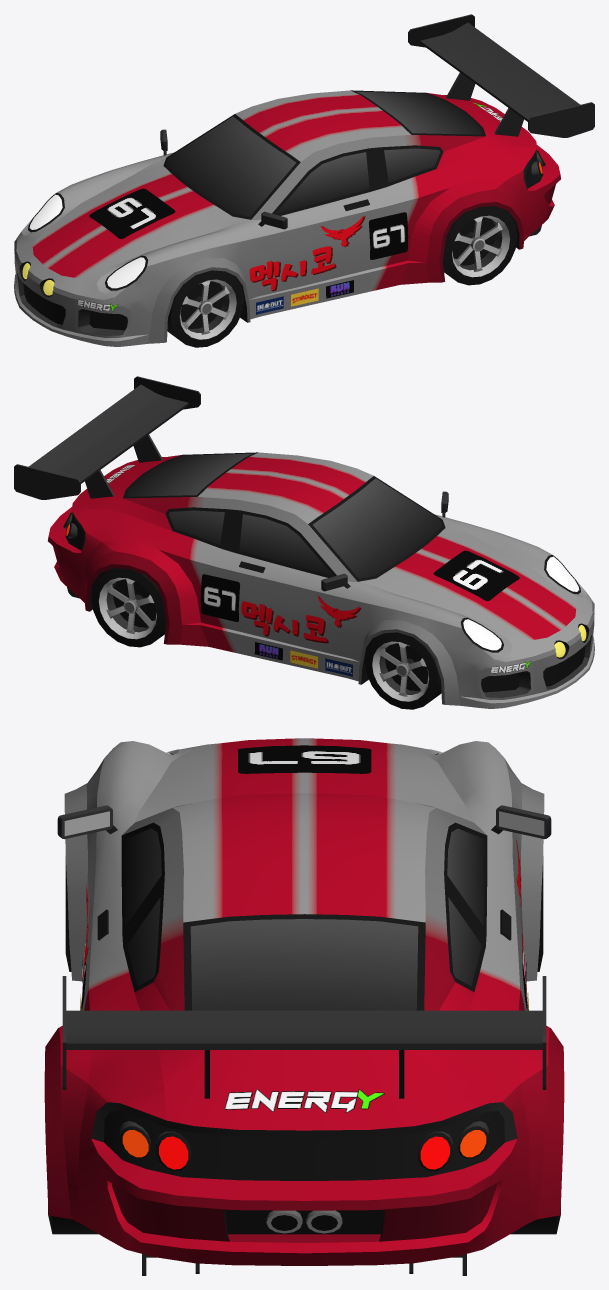
The model's file is RaceCar_048.glb.
3 renders of one model, top to bottom at view 1: azimuth 30°, elevation 25°; view 2: azimuth 150°, elevation 25°; view 3: azimuth 270°, elevation 25°, orthographic. The views are drawn at different scales.
Parts seen in each view (by area): view 1: RaceCar_048, wheel_1_RaceCar_048_Wheel_1R, wheel_3_RaceCar_048_Wheel_2R; view 2: RaceCar_048, wheel_0_RaceCar_048_Wheel_1L, wheel_2_RaceCar_048_Wheel_2L; view 3: RaceCar_048.
Part boxes in pixels (x1,y1,x2,y2): RaceCar_048: (14,14,594,346); wheel_1_RaceCar_048_Wheel_1R: (443,206,517,285); wheel_3_RaceCar_048_Wheel_2R: (167,270,243,347); RaceCar_048: (14,376,594,708); wheel_0_RaceCar_048_Wheel_1L: (91,568,165,647); wheel_2_RaceCar_048_Wheel_2L: (365,632,441,709); RaceCar_048: (44,738,564,1275).
Bounding box in the file's own units: 4.79 × 1.38 × 2.15.
3 materials, 3 textured.
